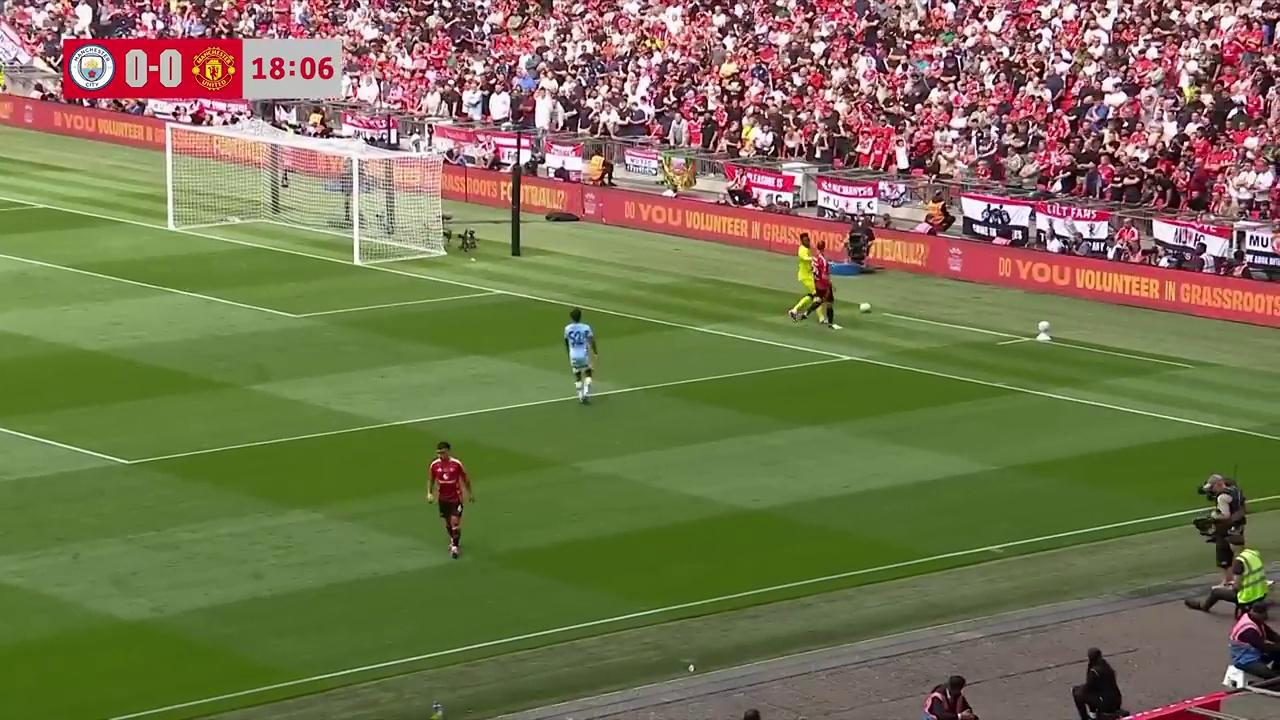ball: (859, 302, 872, 313)
player: (427, 441, 474, 558), (563, 309, 597, 404), (804, 244, 841, 330), (793, 233, 821, 329)
